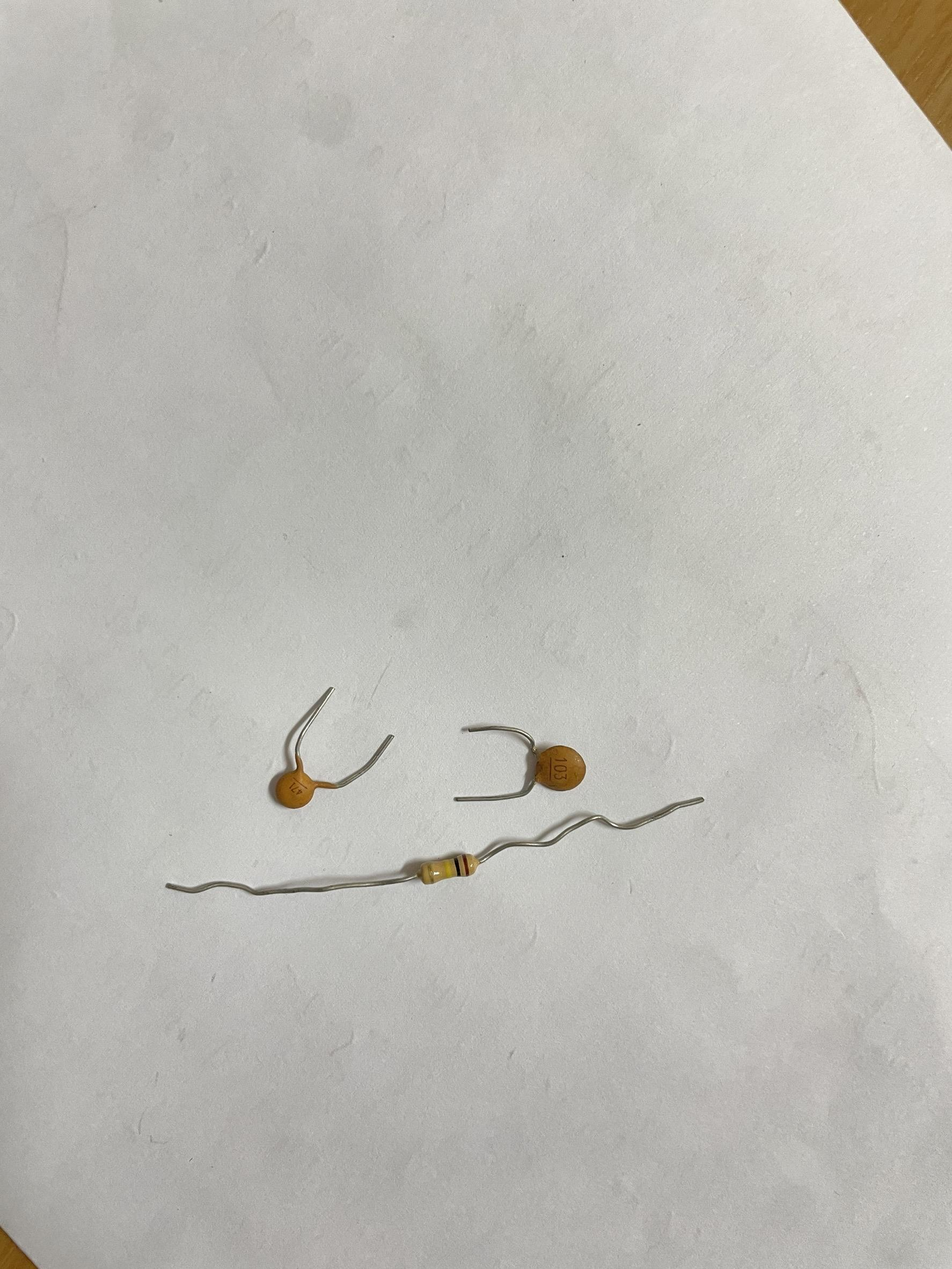resistor: (419, 853, 482, 885)
